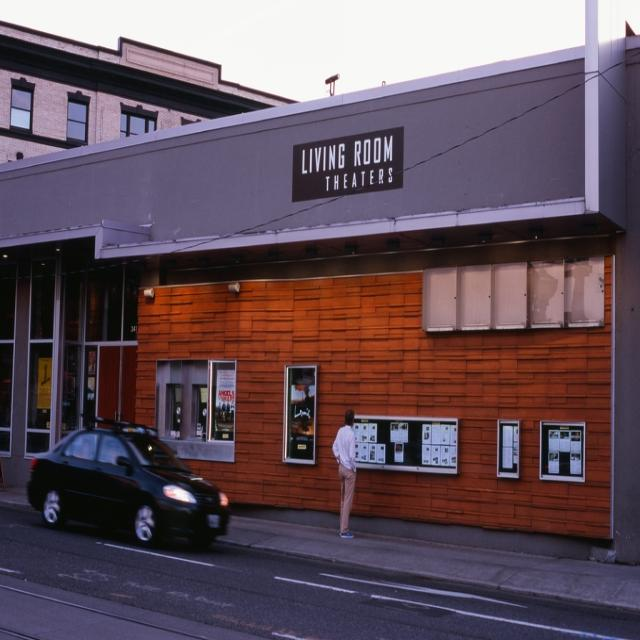car: (16, 420, 224, 547)
